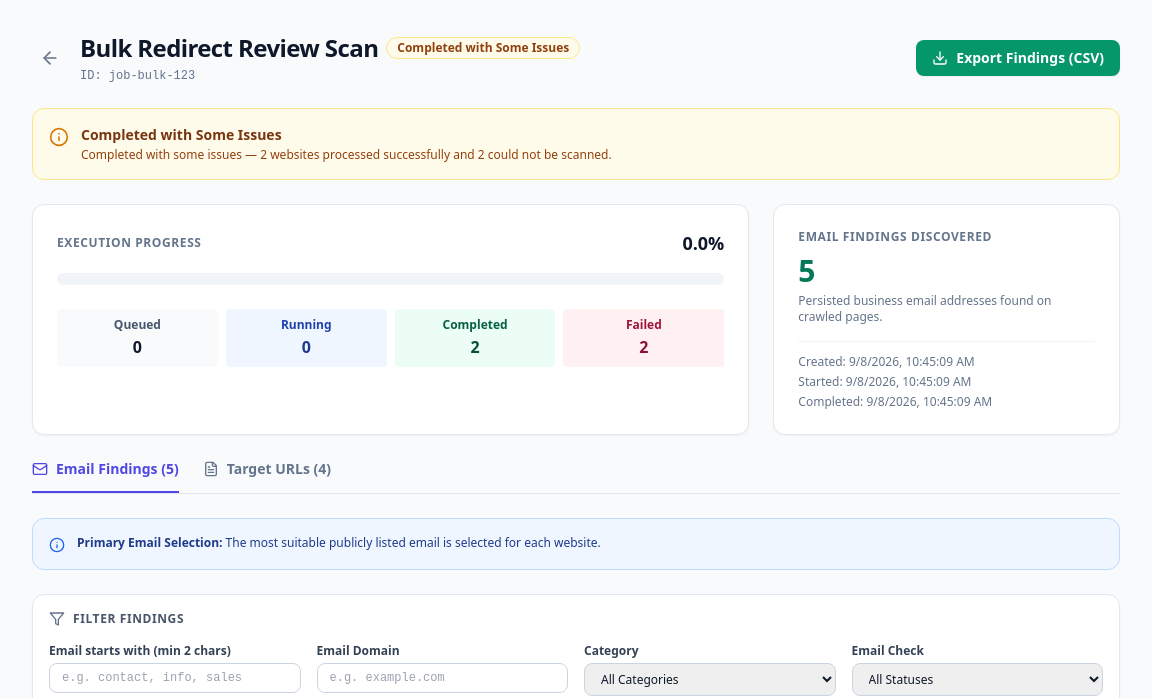
Test case: Bulk Redirect Review Web UI › clears selection on filter change
expect the text "Target URLs (4)" is shown: met, box 227,459 -> 331,479
Click the button "Target URLs (4)": click(267, 476) 203,459 -> 331,493
(page scrolled)
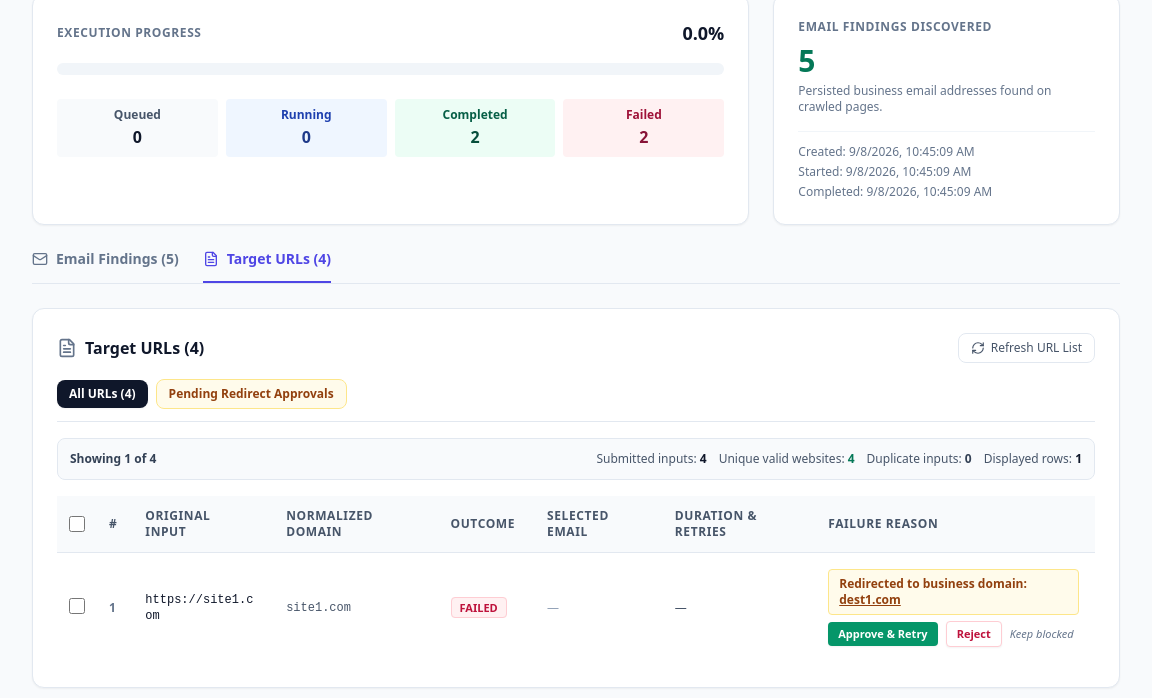
expect the checkbox named "Select redirect for site1.com" is shown: met
Click the checkbox named "Select redirect for site1.com": click(77, 606) 69,598 -> 85,614
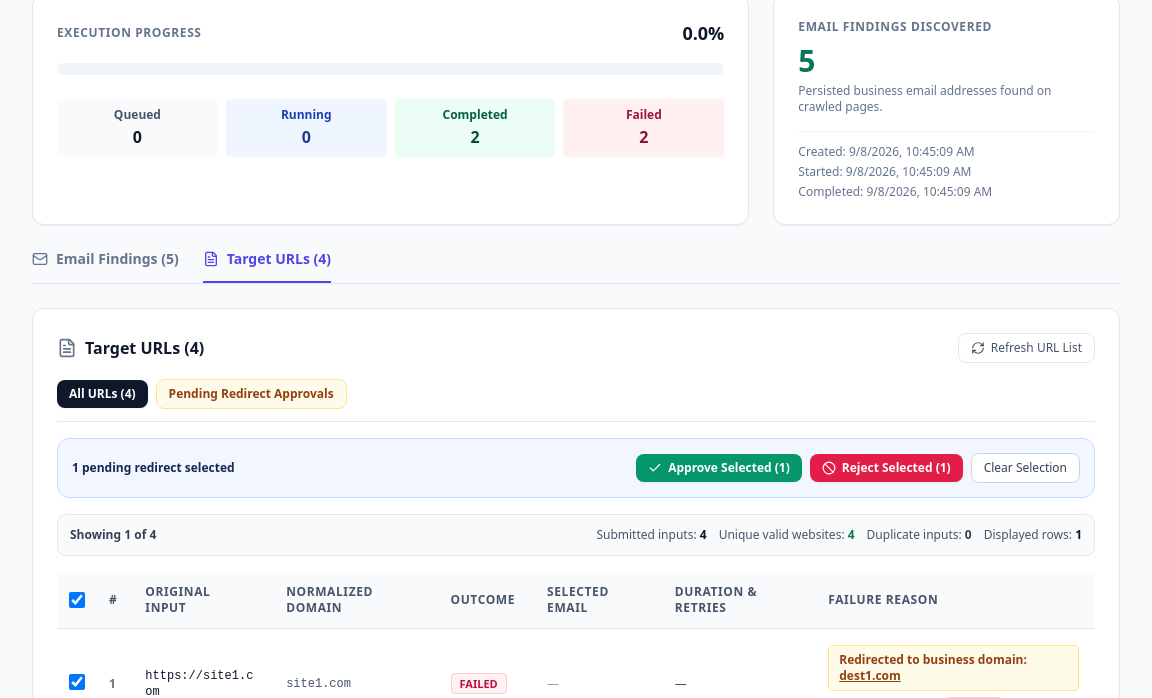
expect the text "1 pending redirect selected" is shown: met, box 72,460 -> 235,476
# Switch filter to Pending Redirect Approvals
Click the button "Pending Redirect Approvals": click(251, 394) 156,379 -> 347,409
(page scrolled)
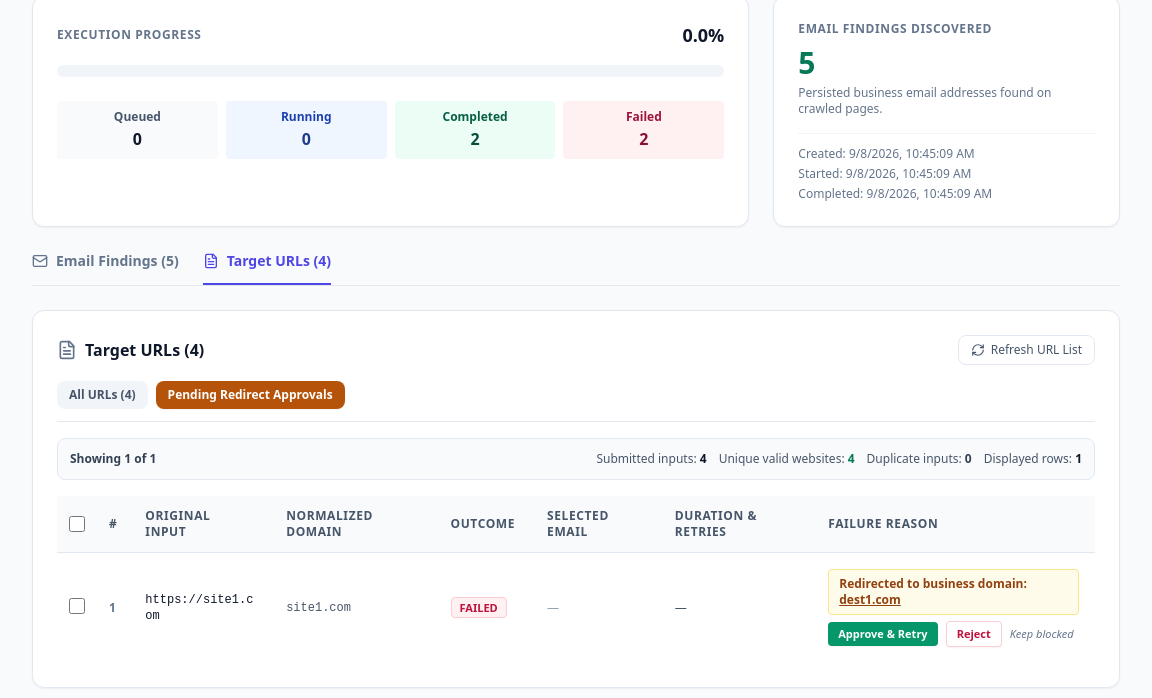
expect the text "1 pending redirect selected" is gone: met
